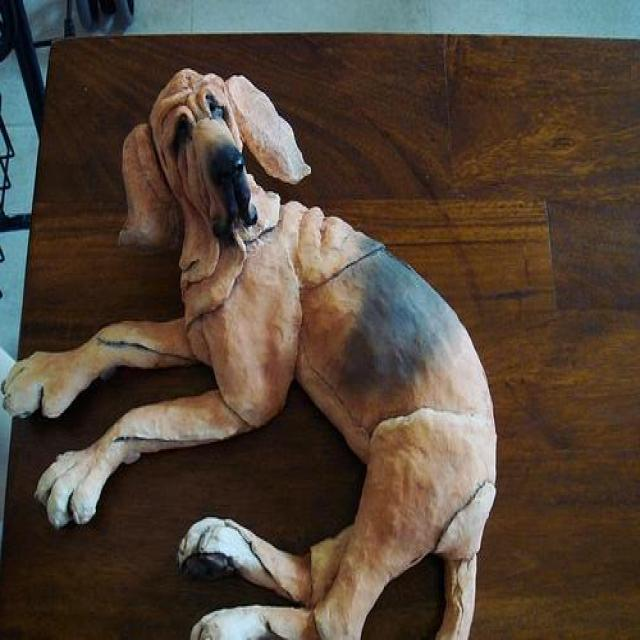bloodhound: (1, 69, 497, 638)
